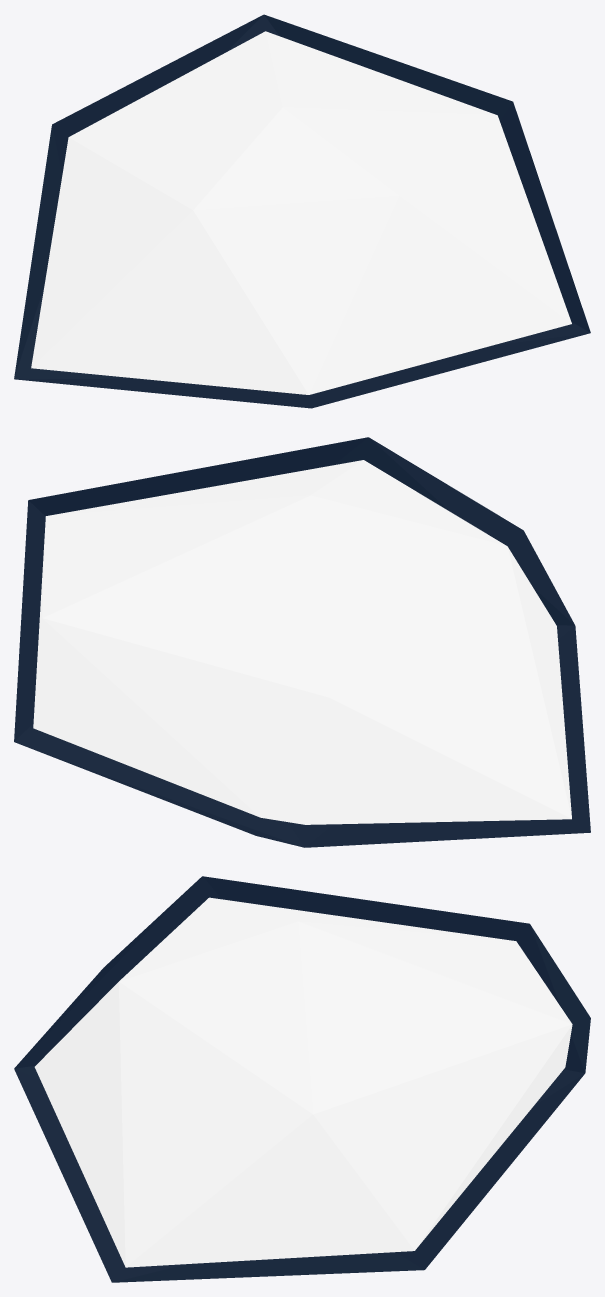
Rendered from stone_l.glb.
The picture shows the model from 3 angles, top to bottom: view 1: azimuth 30°, elevation 25°; view 2: azimuth 150°, elevation 25°; view 3: azimuth 270°, elevation 25°; orthographic projection. The views are drawn at different scales.
Parts seen in each view (by area): view 1: Body, Outline; view 2: Body, Outline; view 3: Body, Outline.
Boxes of the visible parts, x1,y1,x2,y2 form: Body: (31, 31, 571, 394); Outline: (14, 14, 590, 408); Body: (33, 460, 571, 824); Outline: (14, 437, 590, 847); Body: (34, 897, 572, 1267); Outline: (14, 876, 590, 1282).
Size of the model in its own units: 10.7 by 6.27 by 9.84.
